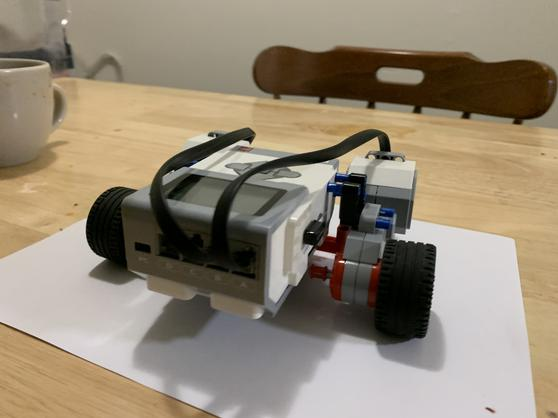robot: (86, 127, 441, 354)
